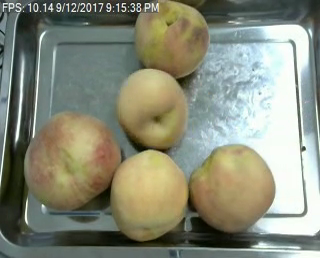Peach: (23, 109, 121, 211), (190, 143, 275, 232), (109, 148, 188, 241), (116, 66, 187, 151), (133, 1, 209, 76)
